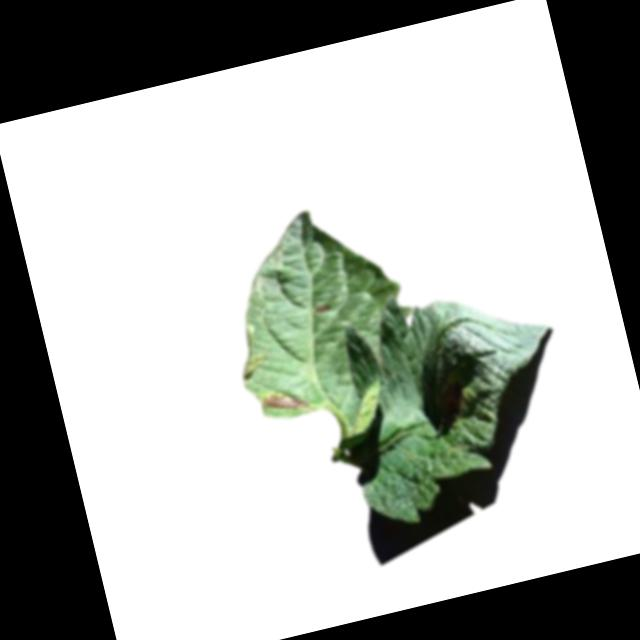Early_blight: (257, 380, 310, 415), (313, 301, 333, 315)
